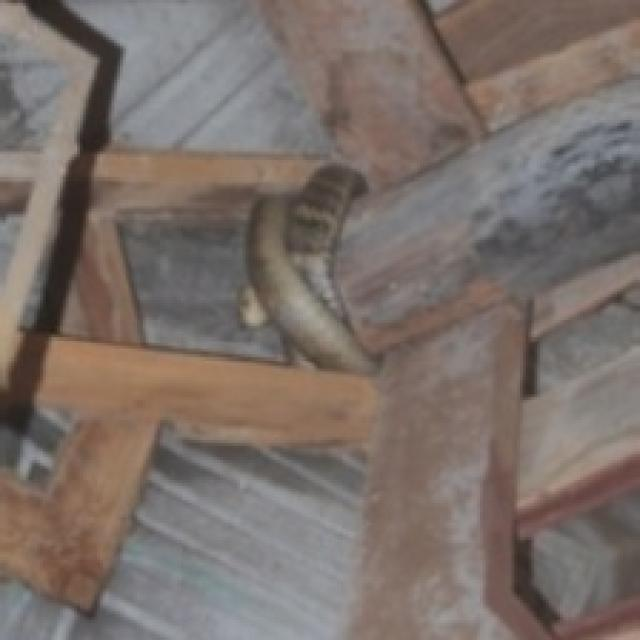king cobra: (249, 166, 374, 371)
